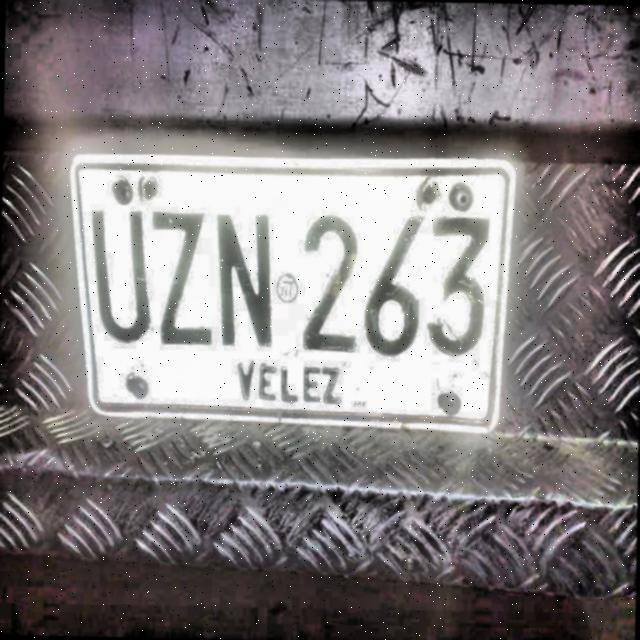plate: (76, 163, 508, 425)
